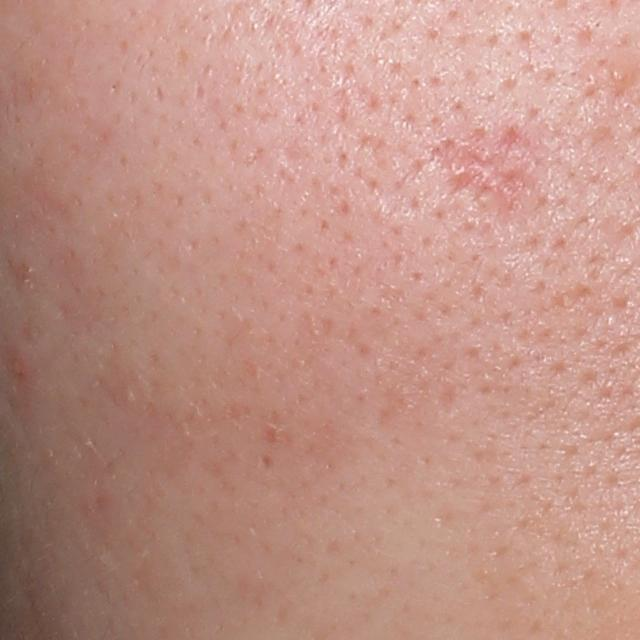atrophic_scar: (429, 129, 532, 215)
papule: (9, 352, 29, 381)
